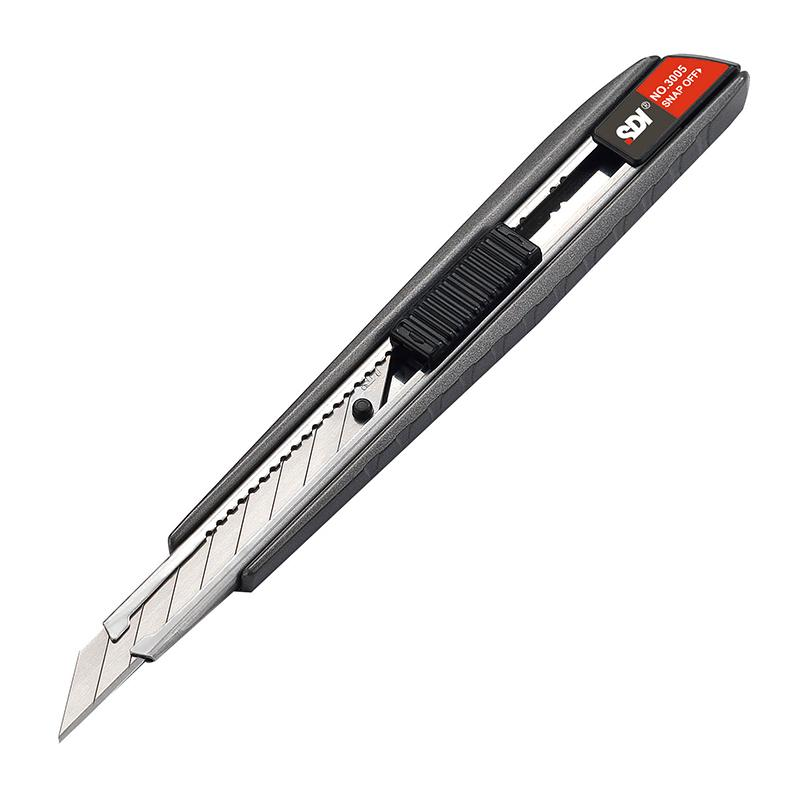cutter: (57, 51, 752, 744)
